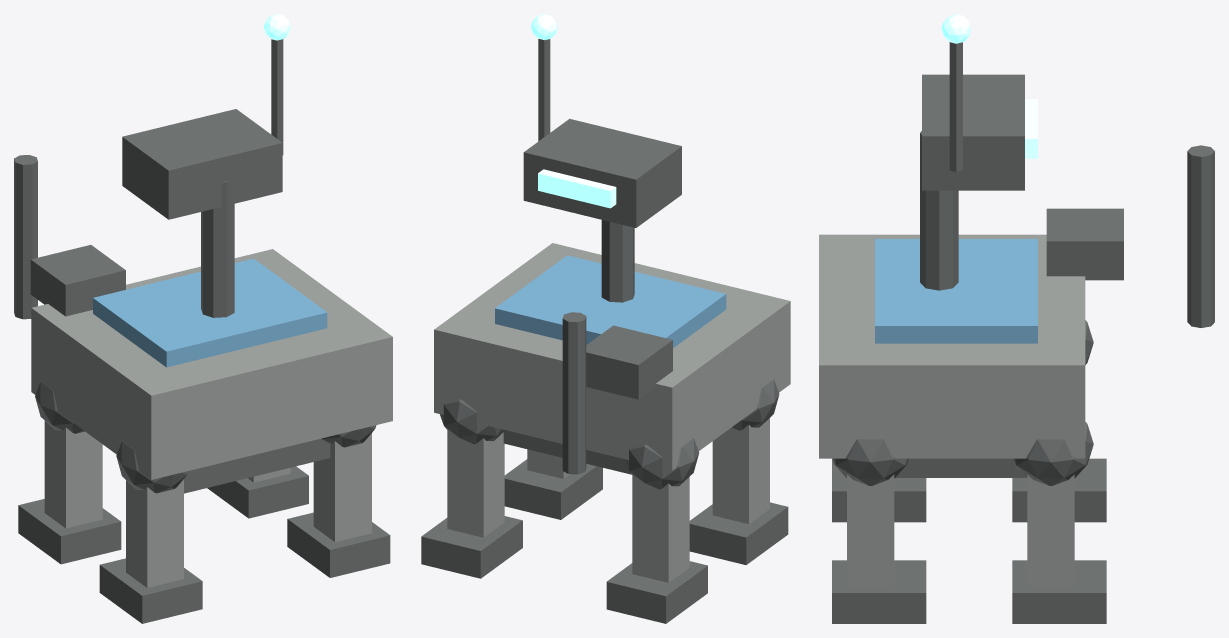
Rendered from hx_scout_v1.glb.
3 renders of one model, left to right at view 1: azimuth 30°, elevation 25°; view 2: azimuth 150°, elevation 25°; view 3: azimuth 270°, elevation 25°, orthographic. The views are drawn at different scales.
Visible parts, largest first — view 1: body, accent_panel, sensor_head, leg_2, leg_0, leg_3, weapon_mount, foot_0, foot_3, foot_2, mast, weapon_barrel (+7 smaller); view 2: body, accent_panel, sensor_head, leg_0, leg_1, leg_2, weapon_mount, foot_1, foot_0, foot_2, weapon_barrel, foot_3 (+9 smaller); view 3: body, accent_panel, sensor_head, weapon_mount, leg_3, leg_1, weapon_barrel, foot_1, foot_3, mast, foot_0, hip_1 (+6 smaller).
Part boxes in pixels (x1,y1,x2,y2): body: [31, 249, 392, 479]; accent_panel: [93, 258, 327, 367]; sensor_head: [122, 109, 282, 219]; leg_2: [126, 479, 183, 587]; leg_0: [44, 421, 102, 528]; leg_3: [313, 433, 371, 541]; weapon_mount: [30, 245, 125, 316]; foot_0: [18, 499, 121, 564]; foot_3: [287, 512, 390, 577]; foot_2: [99, 558, 202, 623]; mast: [201, 180, 234, 317]; weapon_barrel: [14, 155, 37, 319]; body: [434, 243, 790, 470]; accent_panel: [495, 255, 726, 347]; sensor_head: [523, 118, 681, 227]; leg_0: [632, 475, 689, 582]; leg_1: [447, 430, 504, 537]; leg_2: [712, 418, 769, 523]; weapon_mount: [586, 325, 672, 399]; foot_1: [421, 516, 522, 578]; foot_0: [606, 561, 707, 623]; foot_2: [689, 502, 788, 564]; weapon_barrel: [562, 312, 586, 474]; foot_3: [504, 459, 602, 519]; body: [819, 234, 1085, 458]; accent_panel: [875, 239, 1037, 343]; sensor_head: [922, 74, 1024, 190]; weapon_mount: [1046, 208, 1123, 280]; leg_3: [847, 474, 894, 586]; leg_1: [1027, 474, 1074, 586]; weapon_barrel: [1187, 145, 1214, 327]; foot_1: [1012, 560, 1106, 623]; foot_3: [832, 560, 926, 623]; mast: [920, 131, 958, 290]; foot_0: [1012, 458, 1106, 522]; hip_1: [1012, 422, 1093, 485].
Size of the model in its own units: 0.76 by 1.48 by 0.922.
